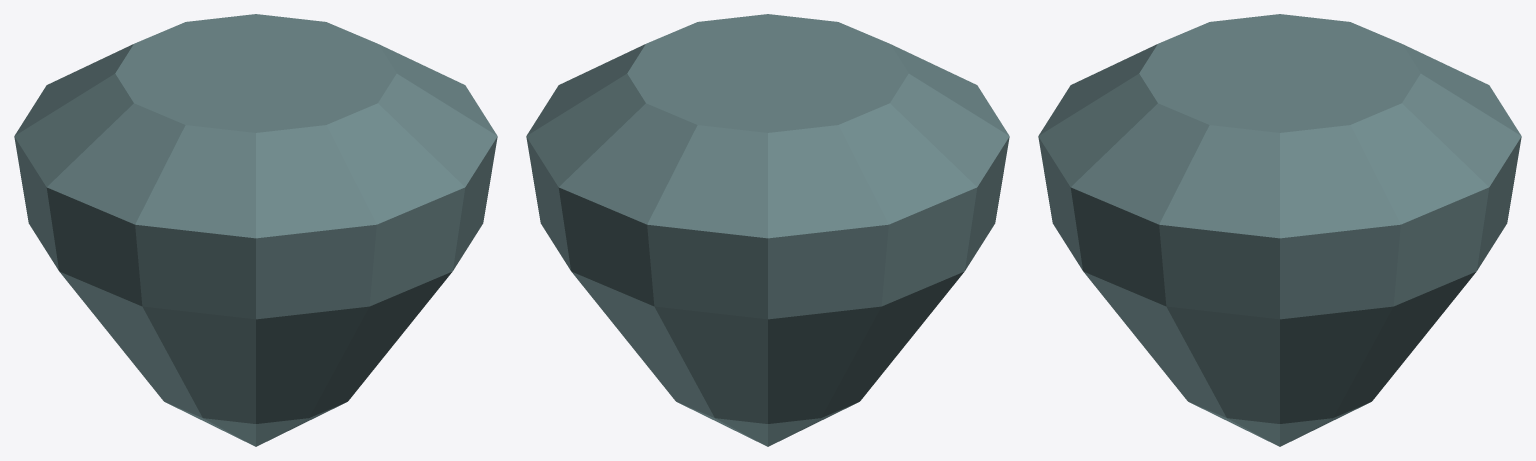
Rendered from SM_LP_RefinedMetal_6.fbx.
3 renders of one model, left to right at view 1: azimuth 30°, elevation 25°; view 2: azimuth 150°, elevation 25°; view 3: azimuth 270°, elevation 25°, orthographic.
Visible parts, largest first — view 1: SM_LP_RefinedMetal_6; view 2: SM_LP_RefinedMetal_6; view 3: SM_LP_RefinedMetal_6.
Boxes of the visible parts, x1,y1,x2,y2 form: SM_LP_RefinedMetal_6: (14,14,497,446); SM_LP_RefinedMetal_6: (526,14,1009,446); SM_LP_RefinedMetal_6: (1038,14,1521,446).
Size of the model in its own units: 0.2645 by 0.2254 by 0.2645.
